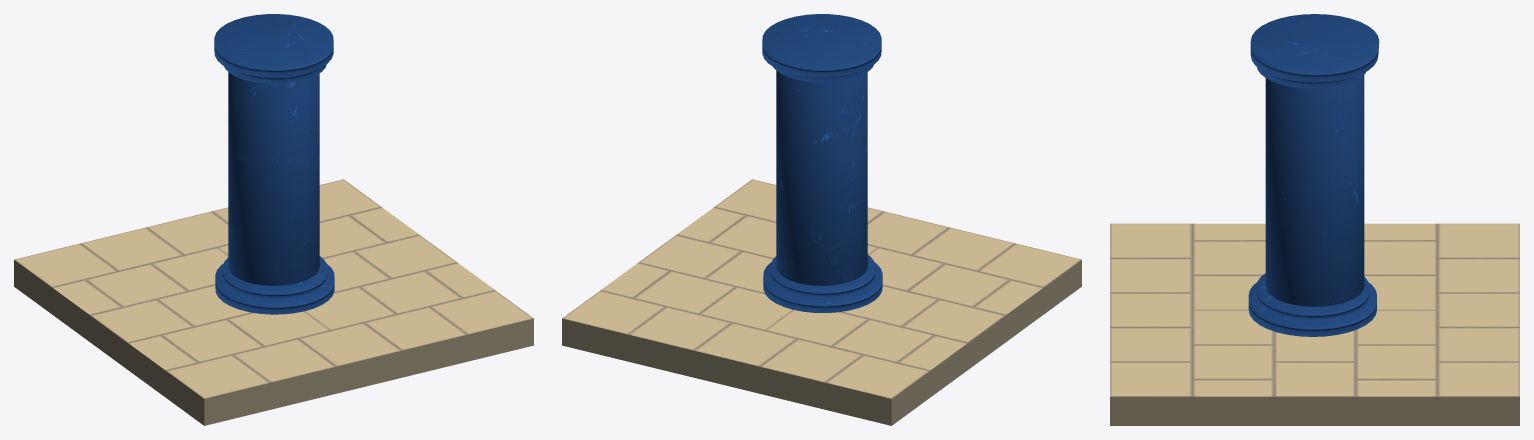
The model's file is tile0074.gltf.
3 renders of one model, left to right at view 1: azimuth 30°, elevation 25°; view 2: azimuth 150°, elevation 25°; view 3: azimuth 270°, elevation 25°, orthographic. The views are drawn at different scales.
Visible parts, largest first — view 1: Cube, 圓柱體.002, 圓柱體.003, 圓柱體, 圓柱體.001, 圓柱體.004; view 2: Cube, 圓柱體.002, 圓柱體.003, 圓柱體, 圓柱體.001, 圓柱體.004; view 3: Cube, 圓柱體.002, 圓柱體.003, 圓柱體, 圓柱體.001, 圓柱體.004.
Part boxes in pixels (x1,y1,x2,y2): Cube: (14,179,533,425); 圓柱體.002: (228,72,319,285); 圓柱體.003: (214,14,333,77); 圓柱體: (215,263,334,314); 圓柱體.001: (222,256,327,298); 圓柱體.004: (224,64,326,83); Cube: (562,179,1081,425); 圓柱體.002: (776,71,867,285); 圓柱體.003: (762,14,881,77); 圓柱體: (763,262,882,312); 圓柱體.001: (770,255,875,296); 圓柱體.004: (773,65,873,82); Cube: (1110,223,1519,425); 圓柱體.002: (1265,75,1364,306); 圓柱體.003: (1250,14,1379,82); 圓柱體: (1248,282,1376,336); 圓柱體.001: (1256,273,1369,319); 圓柱體.004: (1257,67,1366,88).
Size of the model in its own units: 4.95 by 3.98 by 4.95.
Materials: 7 (6 with a texture image).
